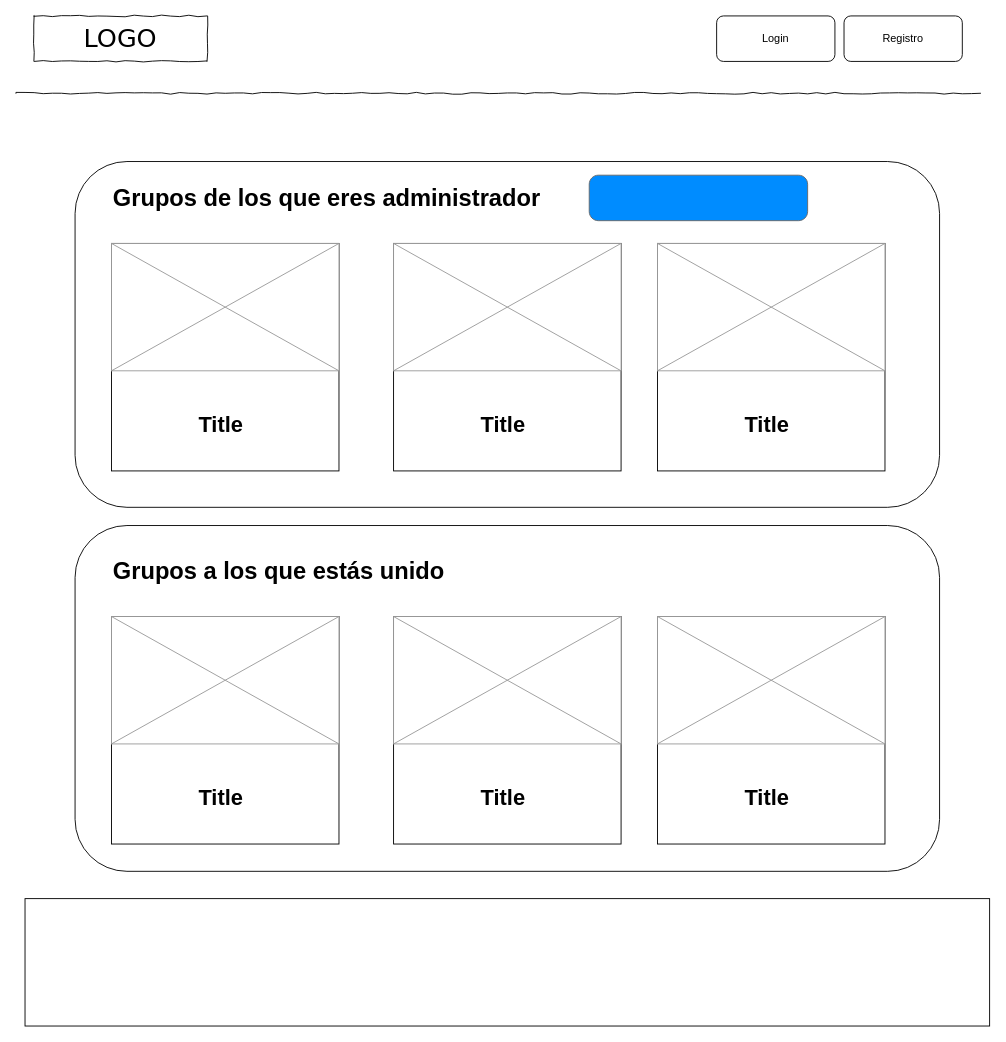
Some shapes in this 1006 by 1042 pixel diagram are drawn without their labels. The shapes that lost their labels are listed below. From the top down, each one's box as (x1, y1, x2, y2) in pixels, then its label:
(588, 174, 808, 221): Crear Grupo
(24, 898, 990, 1026): Footer
